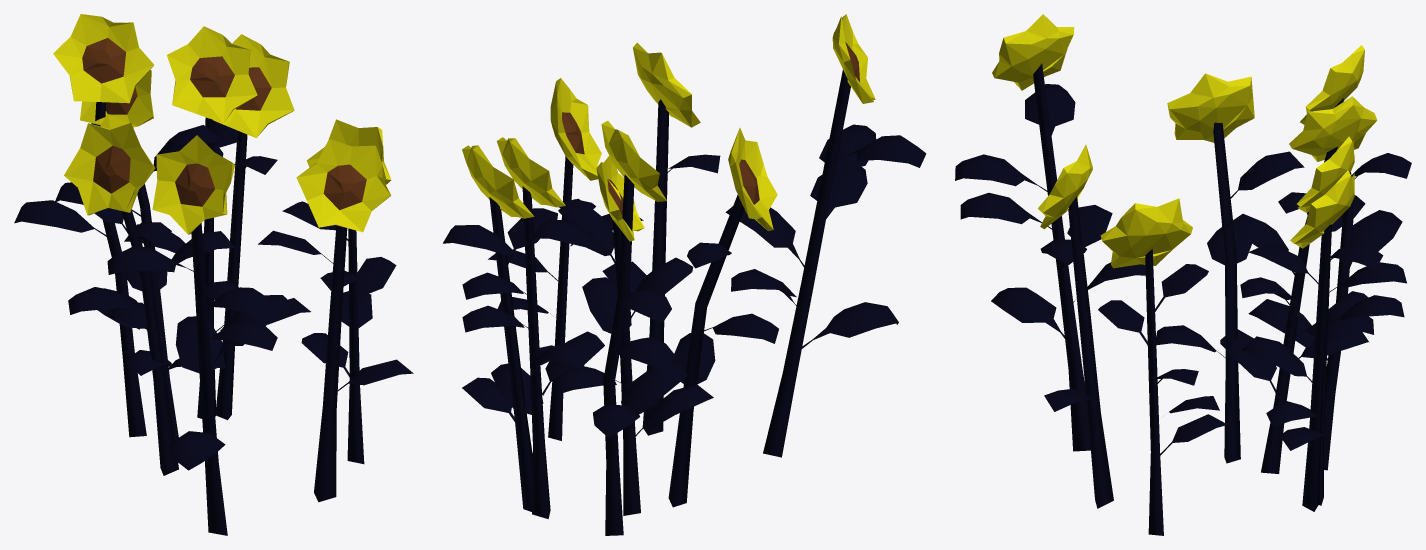
File: PatchSunflower02.fbx
The picture shows the model from 3 angles, left to right: view 1: azimuth 30°, elevation 25°; view 2: azimuth 150°, elevation 25°; view 3: azimuth 270°, elevation 25°; orthographic projection. The views are drawn at different scales.
Visible parts, largest first — view 1: PatchSunflower02; view 2: PatchSunflower02; view 3: PatchSunflower02.
Part boxes in pixels (x1,y1,x2,y2): PatchSunflower02: [14, 14, 413, 535]; PatchSunflower02: [443, 14, 926, 535]; PatchSunflower02: [955, 14, 1411, 535].
Bounding box in the file's own units: 117 × 135 × 134.
